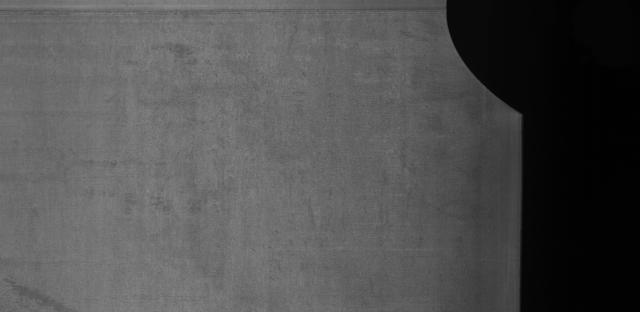crescent_gap: (442, 0, 536, 144)
